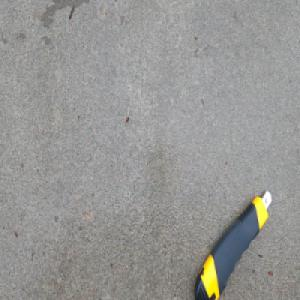Cutter: (192, 184, 272, 299)
